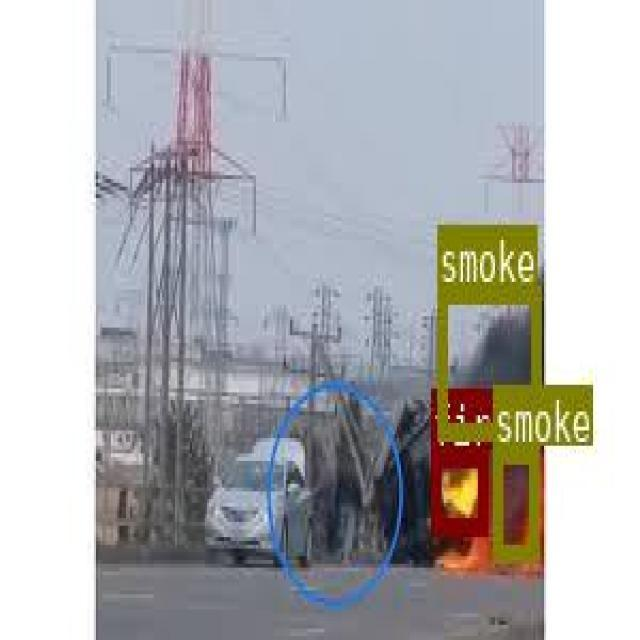fire: (430, 448, 485, 533)
smoke: (436, 285, 539, 435), (492, 443, 536, 558)
